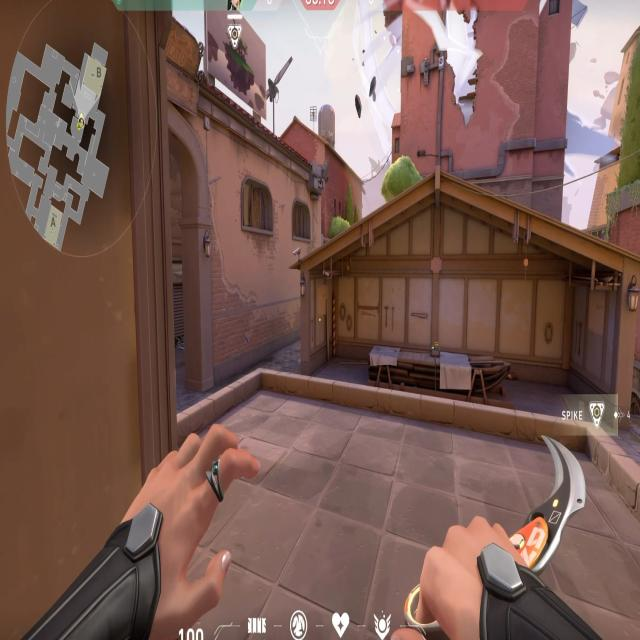B_Garage_Left: (299, 264, 380, 380)
B_Garage_Right: (495, 253, 640, 407)
Throwables: (236, 170, 318, 252)
